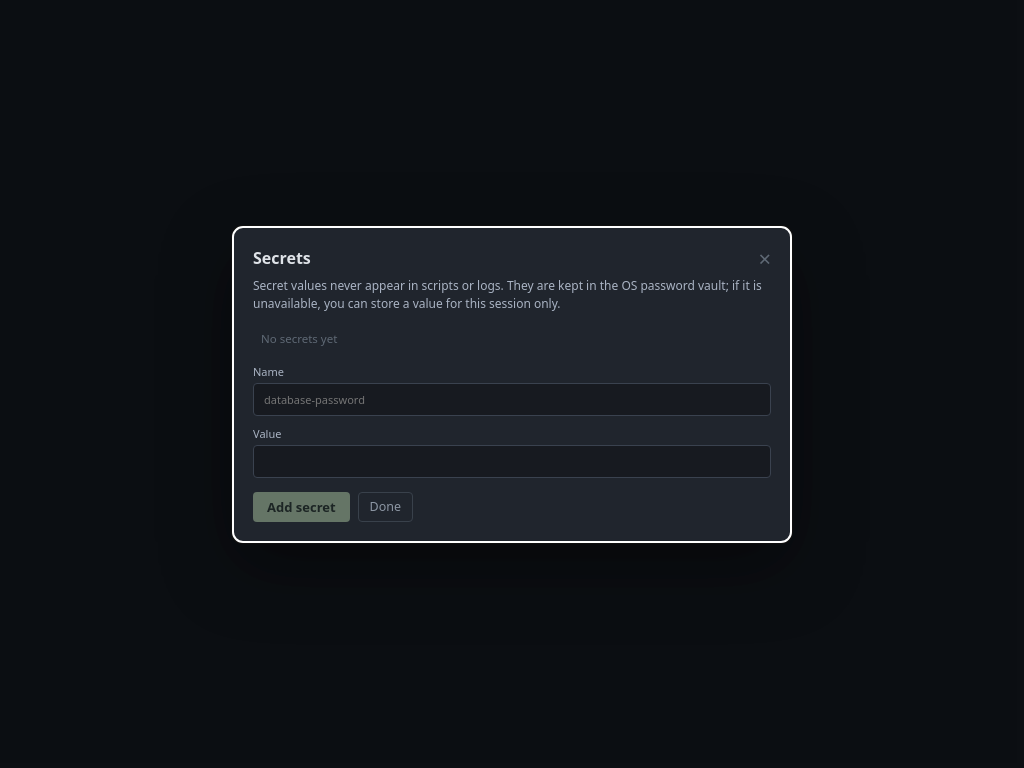
Scenario: explains session-only storage when the vault is unavailable
In the field labelled "Name": {"x": 512, "y": 399} 253,382 -> 771,416, type "token"
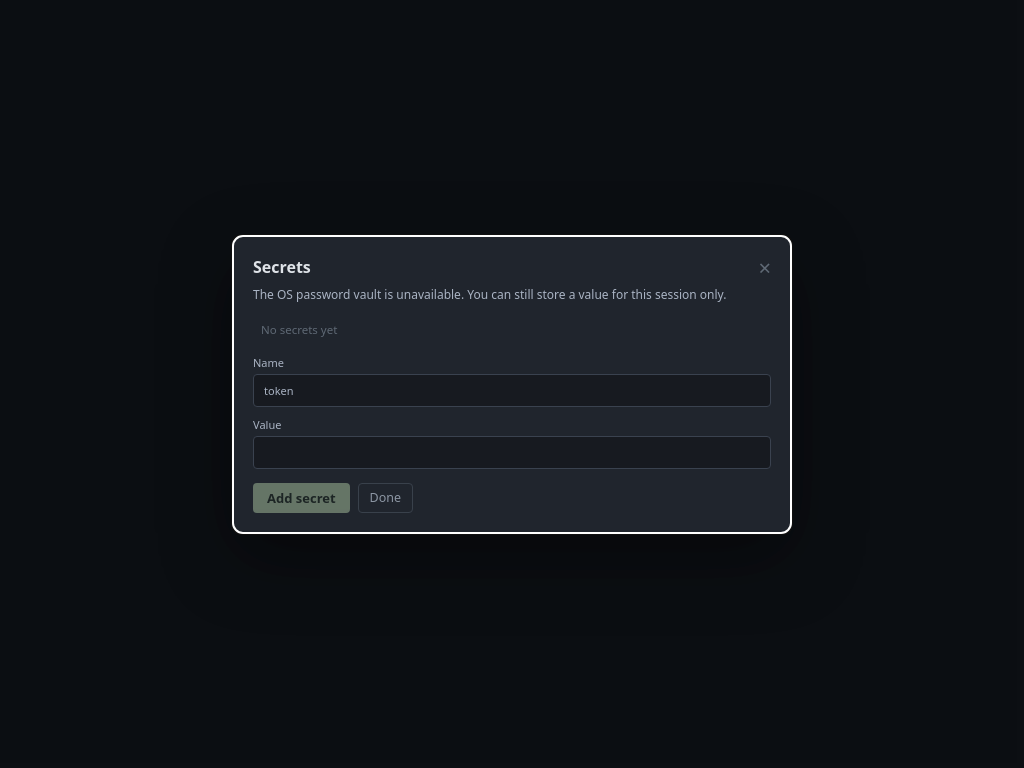
In the password field labelled "Value": {"x": 512, "y": 452} 253,436 -> 771,468, type "value"
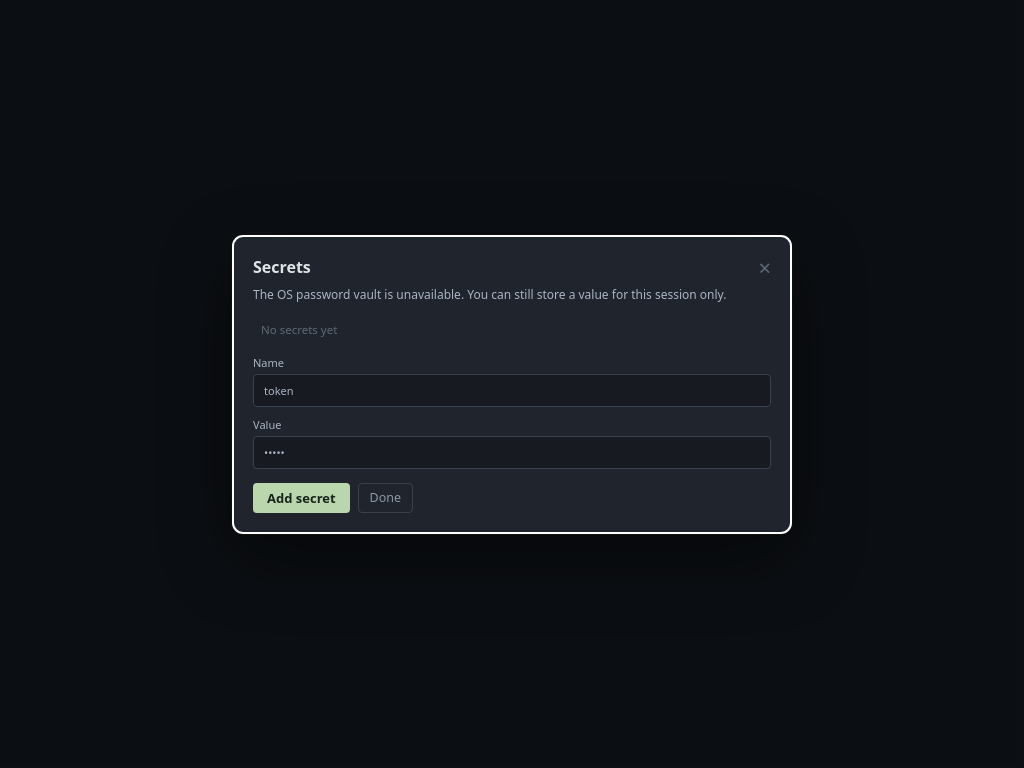
Click the button "Add secret": {"x": 301, "y": 498} 253,482 -> 350,512
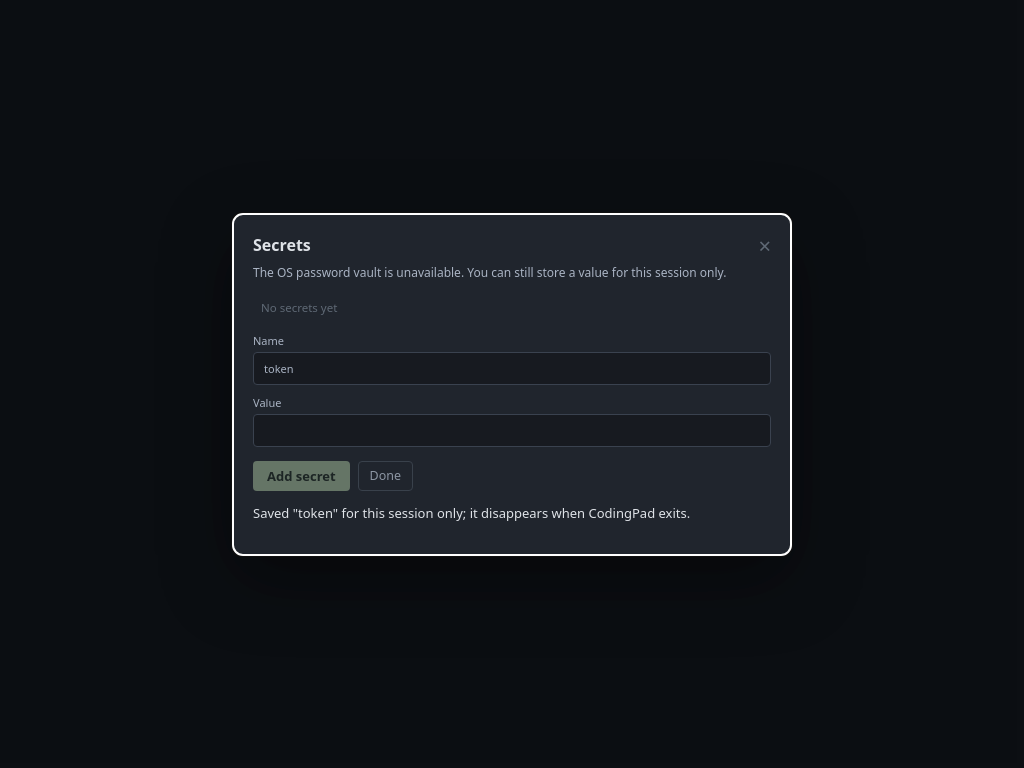
Check: the message shows "session only", box 253,504 -> 690,522
